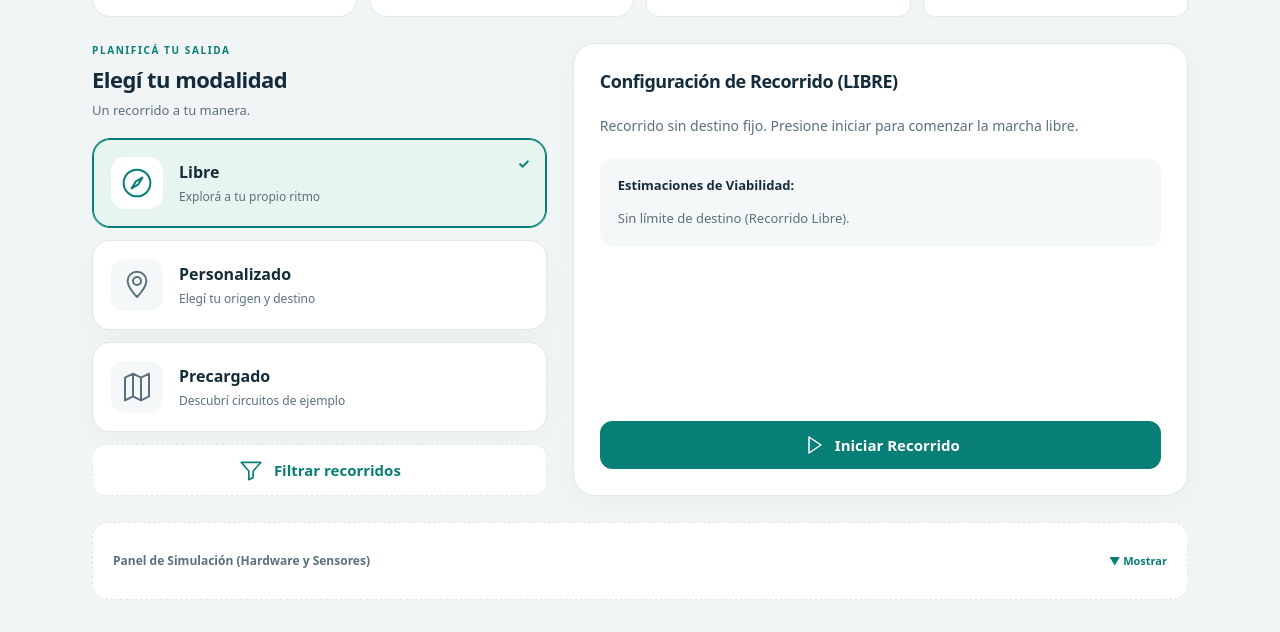
Scenario: CU-02 Filtrar recorridos (UI) › TC-37/38 (5.A, CA2-07/08): sin resultados informa, bloquea el inicio y permite una nueva búsqueda
(page scrolled)
Click the button "Filtrar recorridos". click: [319, 470]
box: [92,444,547,496]
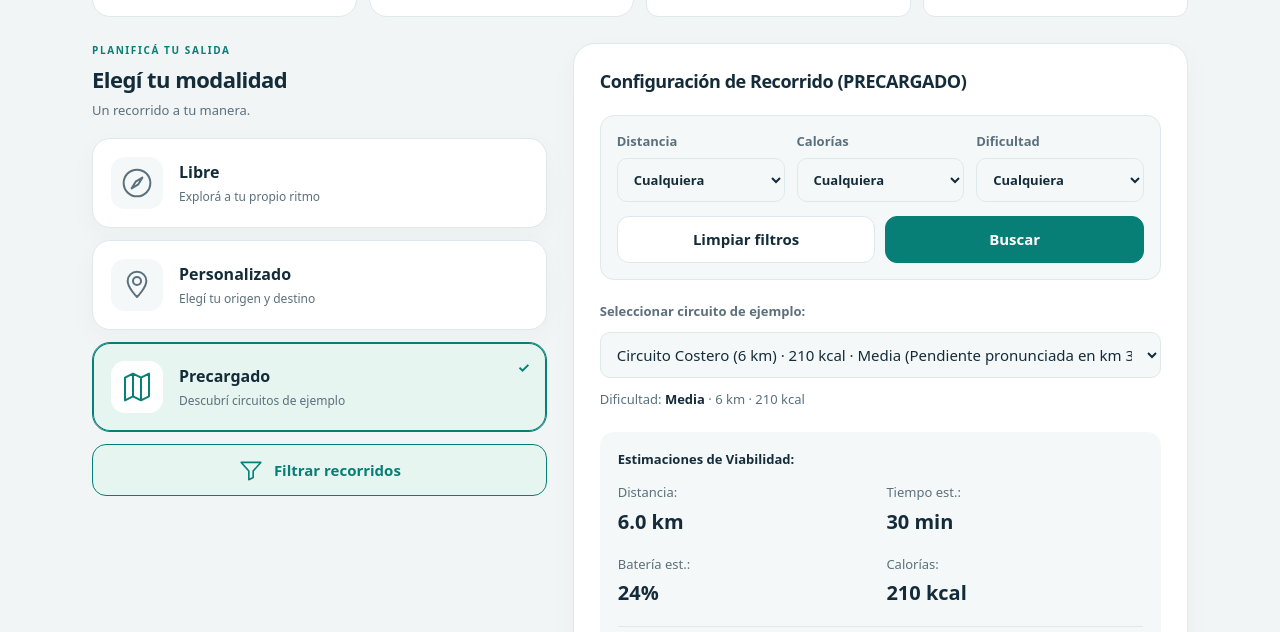
Select "Hasta 5 km" in the dropdown labelled "Distancia". click: [701, 180]
box: [617,158,785,202]
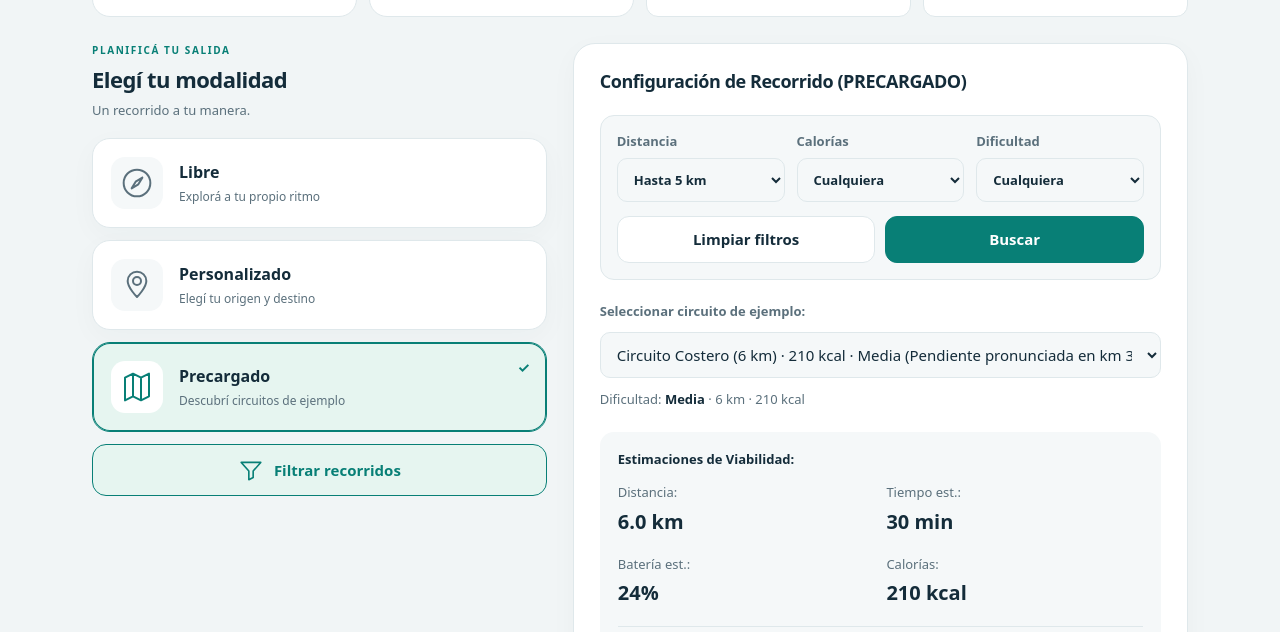
Select "Alta" in the dropdown named "Filtro de dificultad". click: [1060, 180]
box: [976,158,1144,202]
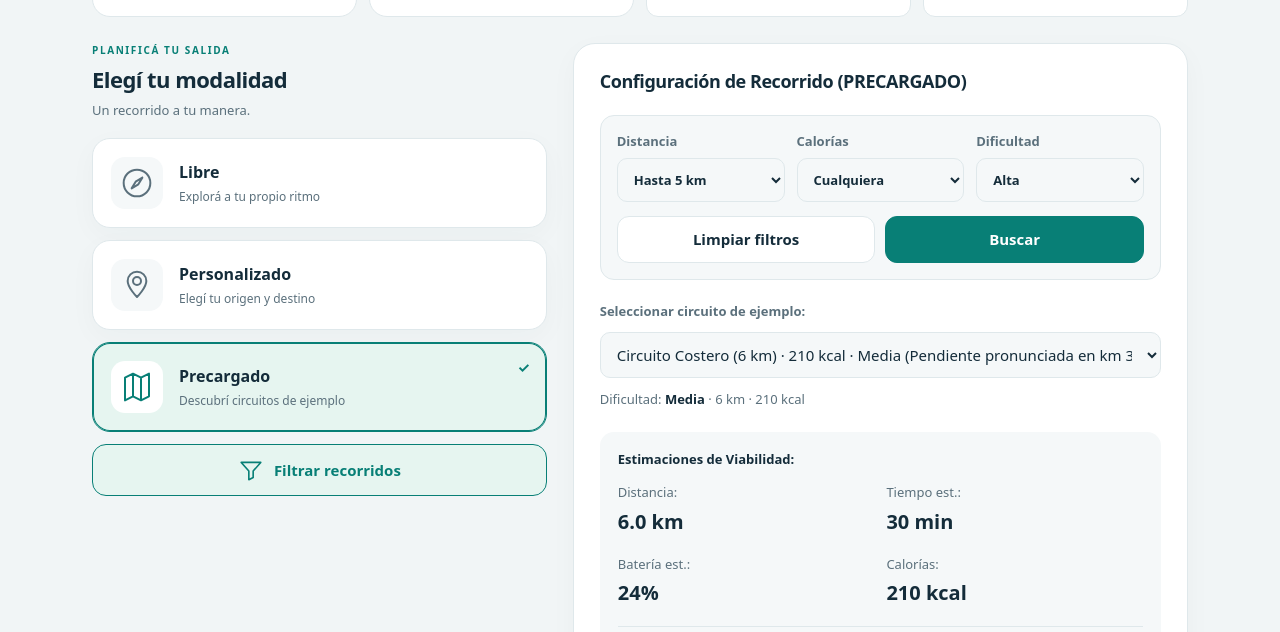
Click the button "Buscar". click: [1015, 239]
box: [885,216,1144,263]
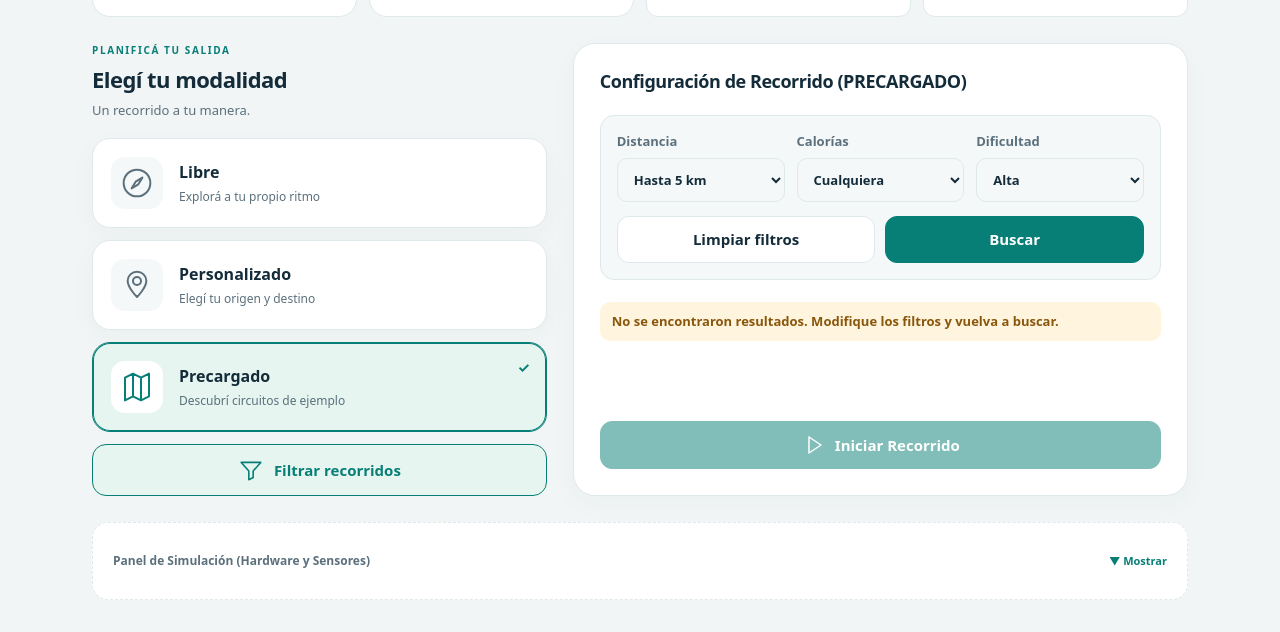
Now the text "No se encontraron resultados. Modifique los filtros y vuelva a buscar." is shown, box [600,302,1161,341]
Now the button "Iniciar Recorrido" is disabled, box [600,421,1161,469]
Now the text "Estimaciones de Viabilidad:" is gone
Select "Baja" in the dropdown named "Filtro de dificultad". click: [1060, 180]
box: [976,158,1144,202]
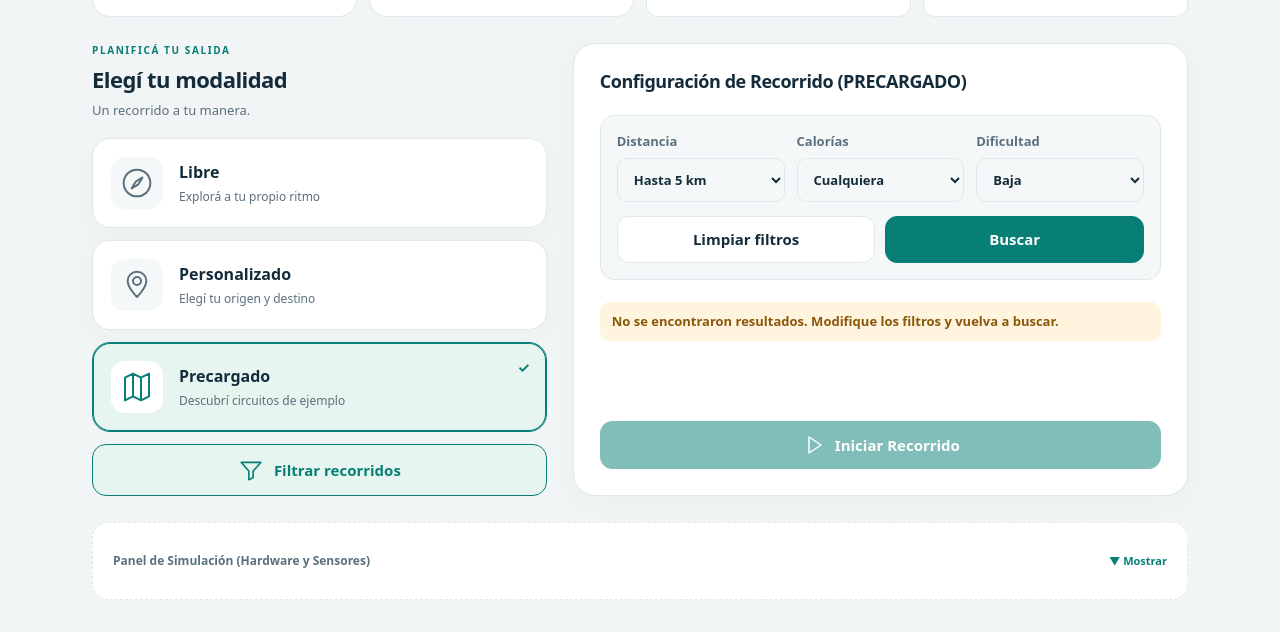
Click the button "Buscar". click: [1015, 239]
box: [885,216,1144,263]
(page scrolled)
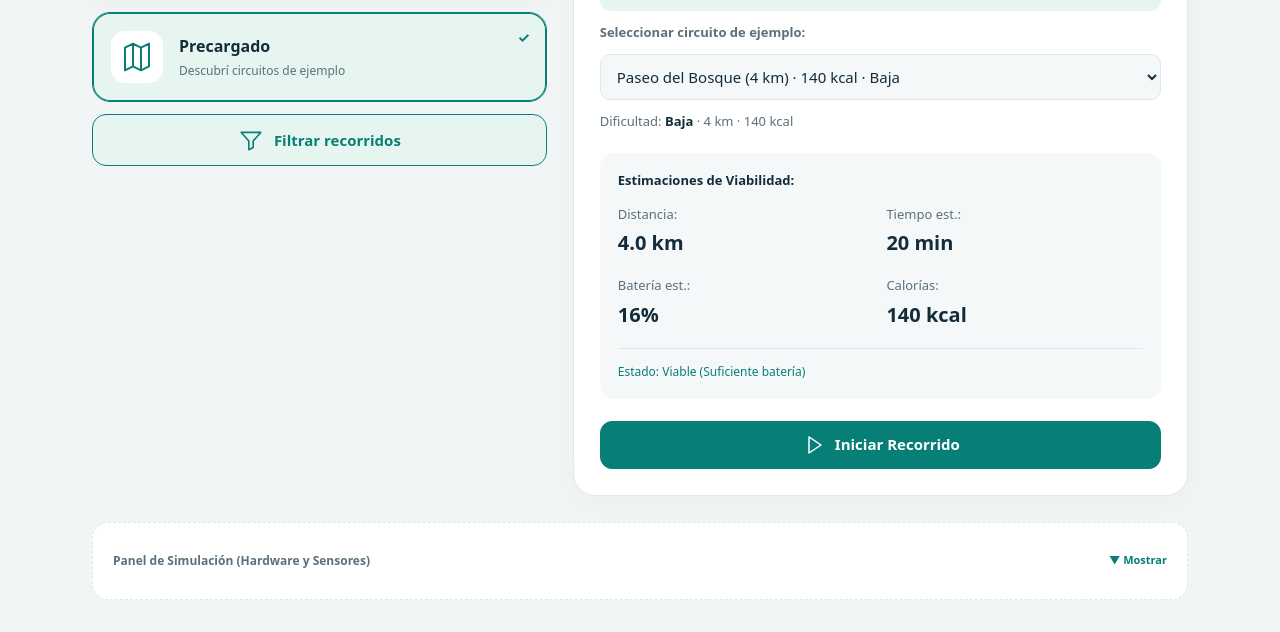
Now the text "No se encontraron resultados" is gone
Now the button "Iniciar Recorrido" is enabled, box [600,421,1161,469]
